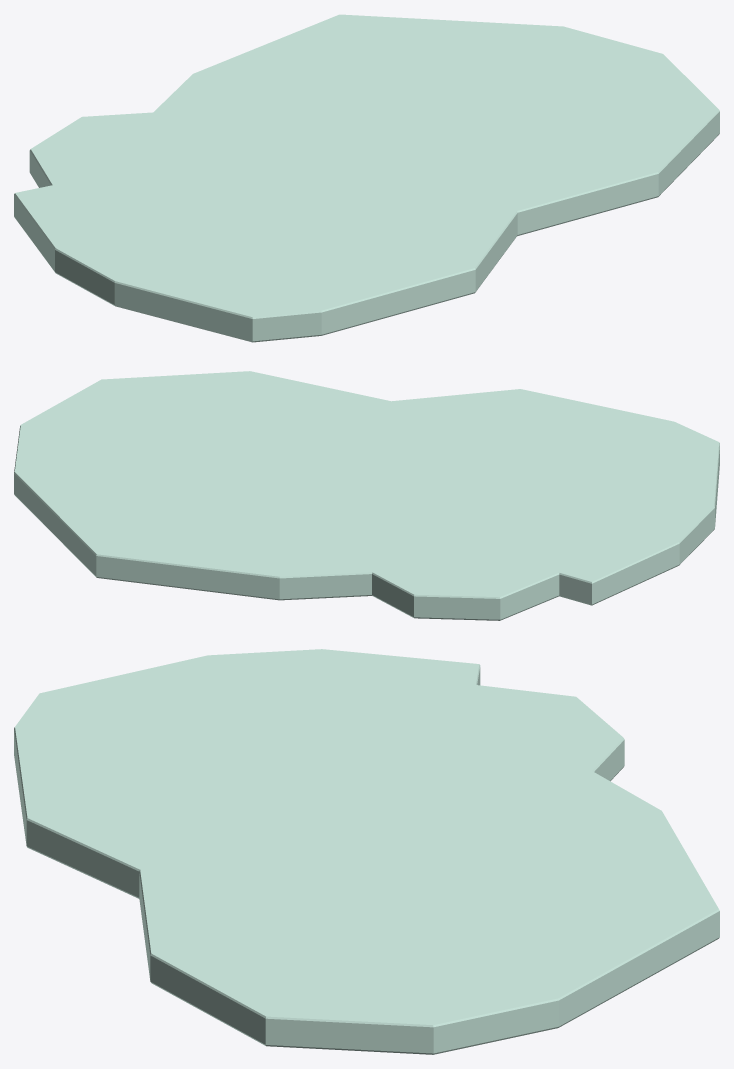
The model's file is MKD.glb.
3 views of the same model, one above another, from view 1: azimuth 30°, elevation 25°; view 2: azimuth 150°, elevation 25°; view 3: azimuth 270°, elevation 25° (orthographic). The views are drawn at different scales.
Bounding box in the file's own units: 1.85 × 0.068 × 1.47.
